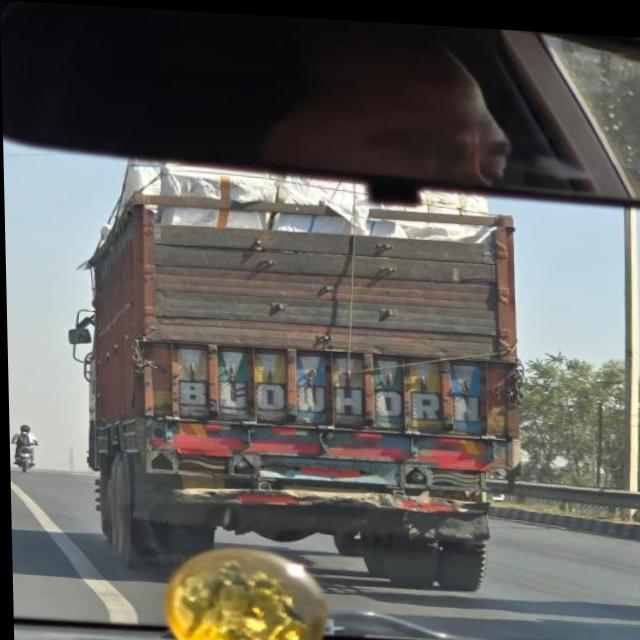covered: (82, 160, 542, 560)
